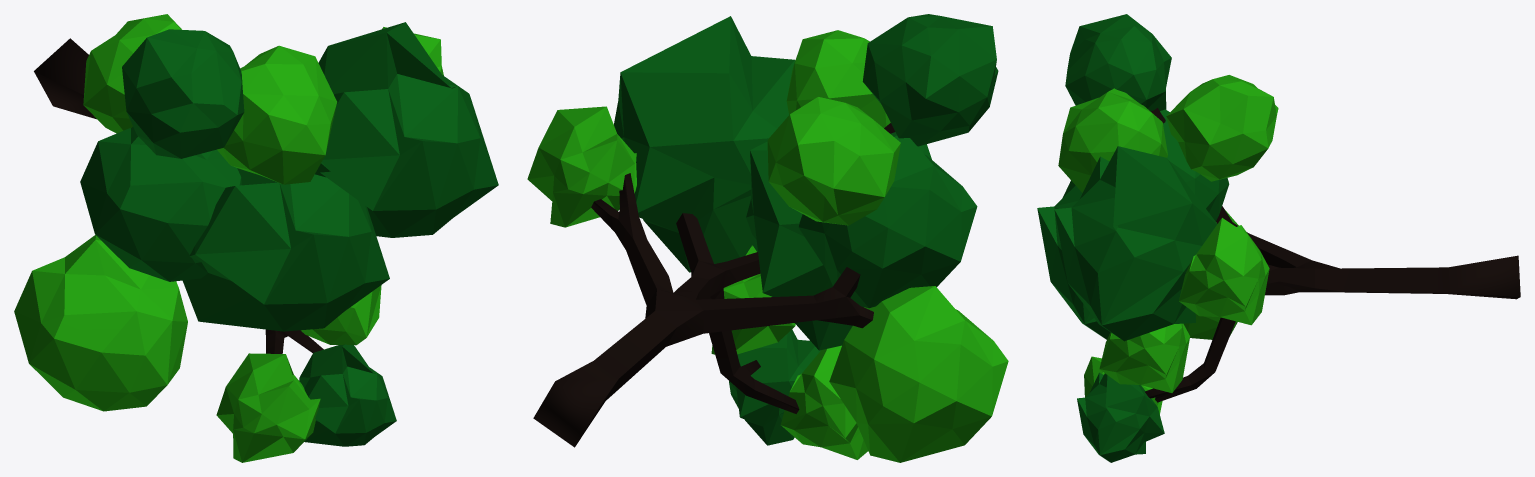
File: arbol.obj
3 views of the same model, side by side, from view 1: azimuth 30°, elevation 25°; view 2: azimuth 150°, elevation 25°; view 3: azimuth 270°, elevation 25° (orthographic). The views are drawn at different scales.
Visible parts, largest first — view 1: Icosphere.008; view 2: Icosphere.008; view 3: Icosphere.008.
Boxes of the visible parts, x1,y1,x2,y2 form: Icosphere.008: (14, 14, 498, 462); Icosphere.008: (527, 14, 1008, 462); Icosphere.008: (1037, 14, 1520, 462).
Size of the model in its own units: 22.5 by 22.38 by 26.61.
